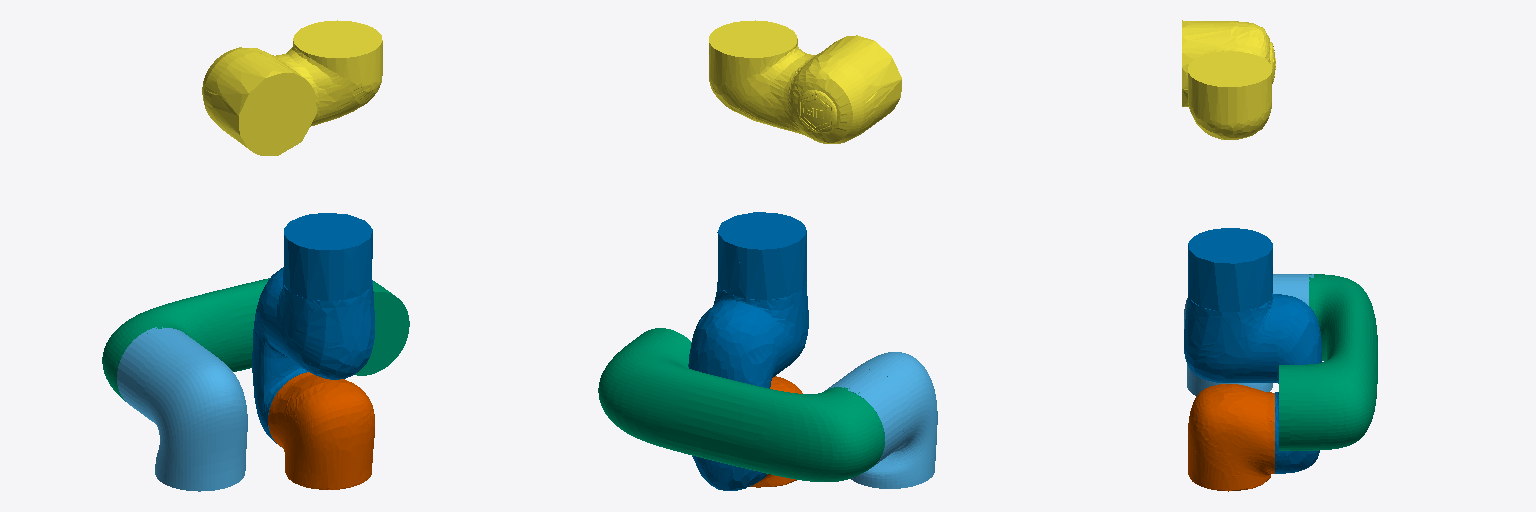
The robot description file, URDF, robot "xarm6":
<?xml version="1.0"?>
<robot name="xarm6">
  <link name="link_base"><visual><geometry><mesh filename="meshes/link_base.stl"/></geometry></visual></link>
  <link name="link1"><visual><geometry><mesh filename="meshes/link1.stl"/></geometry></visual></link>
  <link name="link2"><visual><geometry><mesh filename="meshes/link2.stl"/></geometry></visual></link>
  <link name="link3"><visual><geometry><mesh filename="meshes/link3.stl"/></geometry></visual></link>
  <link name="link4"><visual><geometry><mesh filename="meshes/link4.stl"/></geometry></visual></link>
  <link name="link5"><visual><geometry><mesh filename="meshes/link5.stl"/></geometry></visual></link>
  <link name="link6"><visual><geometry><mesh filename="meshes/link6.stl"/></geometry></visual></link>
  <joint name="joint1" type="revolute"><parent link="link_base"/><child link="link1"/><origin xyz="0 0 0.267" rpy="0 0 0"/><axis xyz="0 0 1"/><limit lower="-6.283185" upper="6.283185" effort="50" velocity="3"/></joint>
  <joint name="joint2" type="revolute"><parent link="link1"/><child link="link2"/><origin xyz="0 0 0" rpy="-1.5708 0 0"/><axis xyz="0 0 1"/><limit lower="-2.059" upper="2.0944" effort="50" velocity="3"/></joint>
  <joint name="joint3" type="revolute"><parent link="link2"/><child link="link3"/><origin xyz="0.0535 -0.2845 0" rpy="0 0 0"/><axis xyz="0 0 1"/><limit lower="-3.927" upper="0.19198" effort="50" velocity="3"/></joint>
  <joint name="joint4" type="revolute"><parent link="link3"/><child link="link4"/><origin xyz="0.0775 0.3425 0" rpy="-1.5708 0 0"/><axis xyz="0 0 1"/><limit lower="-6.283185" upper="6.283185" effort="50" velocity="3"/></joint>
  <joint name="joint5" type="revolute"><parent link="link4"/><child link="link5"/><origin xyz="0 0 0" rpy="1.5708 0 0"/><axis xyz="0 0 1"/><limit lower="-1.69297" upper="3.141593" effort="50" velocity="3"/></joint>
  <joint name="joint6" type="revolute"><parent link="link5"/><child link="link6"/><origin xyz="0.076 0.097 0" rpy="-1.5708 0 0"/><axis xyz="0 0 1"/><limit lower="-6.283185" upper="6.283185" effort="50" velocity="3"/></joint>
</robot>

--- Render facts (derived) ---
The picture shows the robot from 3 angles, left to right: view 1: azimuth 30°, elevation 25°; view 2: azimuth 150°, elevation 25°; view 3: azimuth 270°, elevation 25°; orthographic projection.
Model xarm6 with 7 links and 6 joints (6 revolute), rooted at link_base, posed all joints at 0.
Visible links, largest first — view 1: link4, link3, link1, link5, link2; view 2: link2, link4, link3, link1, link5; view 3: link4, link2, link3, link5, link1.
Boxes of the visible links, x1,y1,x2,y2 form: link4: [252, 213, 374, 446]; link3: [202, 20, 382, 155]; link1: [117, 327, 247, 491]; link5: [268, 372, 374, 489]; link2: [102, 278, 409, 401]; link2: [598, 328, 884, 481]; link4: [688, 212, 808, 490]; link3: [709, 20, 901, 143]; link1: [825, 352, 937, 488]; link5: [750, 376, 802, 487]; link4: [1184, 228, 1321, 473]; link2: [1279, 274, 1377, 450]; link3: [1182, 20, 1275, 139]; link5: [1188, 384, 1274, 491]; link1: [1184, 274, 1313, 396].
Bounding box of the posed robot: 0.2802 × 0.1823 × 0.4244 m (x, y, z).
5 mesh visuals loaded from 7 distinct referenced files (5 binary STL); not drawn: 2 (reference not matched to a file when rendering).
